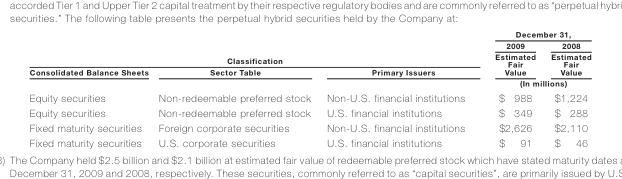table: (28, 29, 590, 148)
table column: (152, 29, 317, 148), (317, 29, 479, 148), (28, 29, 152, 148), (479, 29, 542, 148), (542, 29, 590, 148)
table column header: (28, 29, 590, 89)
table row: (28, 39, 590, 65), (28, 104, 590, 120), (28, 89, 590, 104), (28, 120, 590, 135), (28, 135, 590, 148), (28, 65, 590, 77), (28, 77, 590, 89), (28, 29, 590, 39)
table spanning cell: (28, 29, 479, 65), (152, 65, 317, 89), (317, 65, 479, 89), (28, 65, 152, 89), (479, 39, 542, 77), (542, 39, 590, 77), (479, 77, 590, 89), (479, 29, 590, 39)
